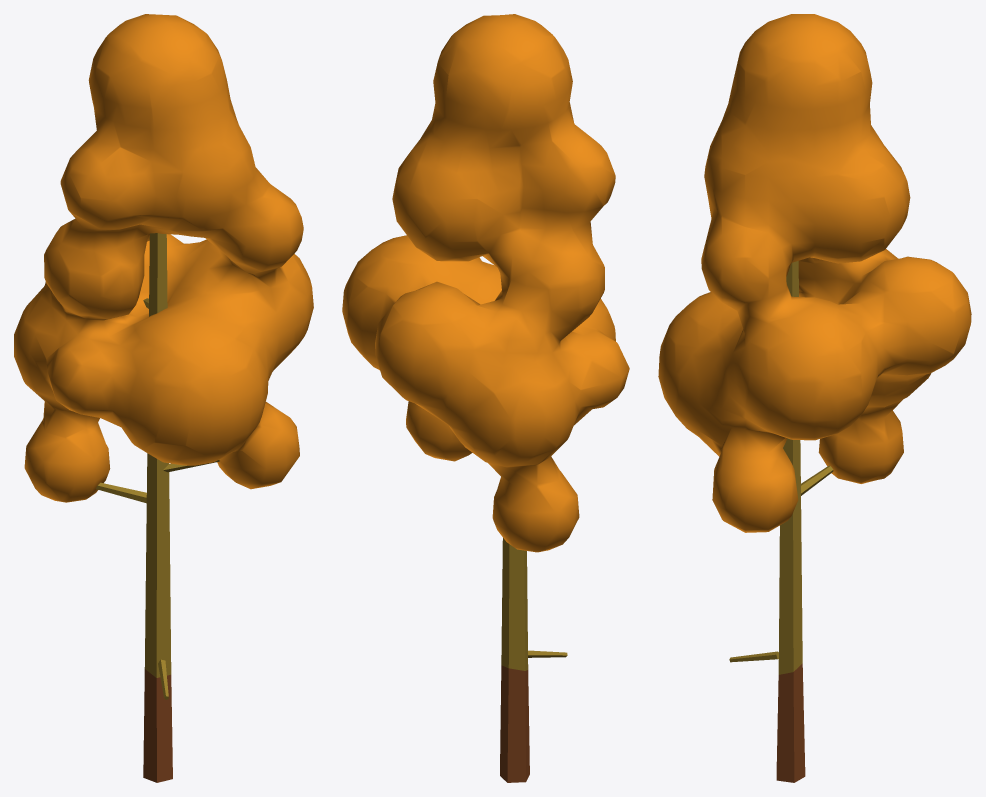
Rendered from PINE4.fbx.
The picture shows the model from 3 angles, left to right: view 1: azimuth 30°, elevation 25°; view 2: azimuth 150°, elevation 25°; view 3: azimuth 270°, elevation 25°; orthographic projection.
Visible parts, largest first — view 1: Mball, Cylinder; view 2: Mball, Cylinder; view 3: Mball, Cylinder.
Boxes of the visible parts, x1=… form: Mball: x1=14, y1=14, x2=313, y2=502; Cylinder: x1=96, y1=233, x2=219, y2=782; Mball: x1=342, y1=14, x2=629, y2=552; Cylinder: x1=500, y1=538, x2=567, y2=782; Mball: x1=658, y1=14, x2=971, y2=532; Cylinder: x1=729, y1=261, x2=833, y2=782.
Bounding box in the file's own units: 1109 × 3059 × 1142.
